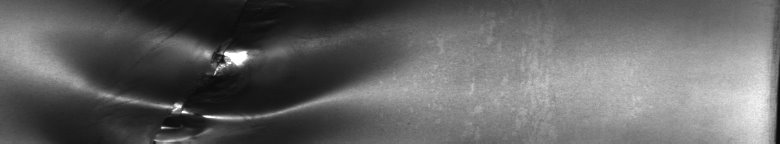ke: (72, 21, 364, 136)
